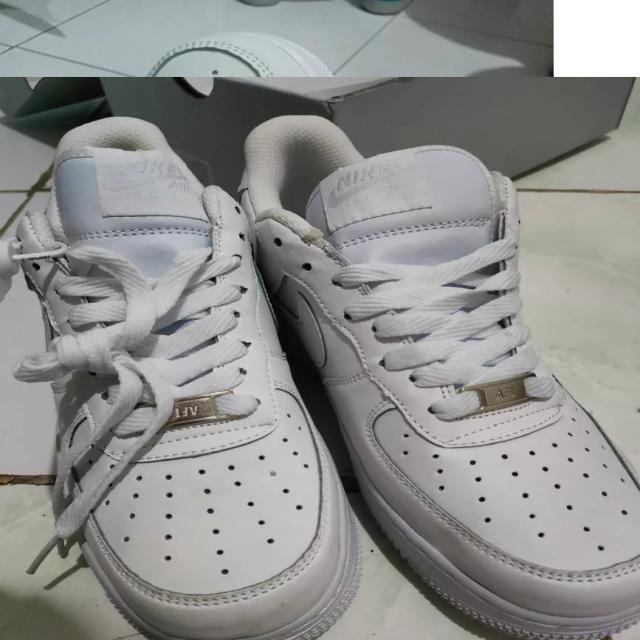nike fake air force: (234, 118, 640, 640), (0, 111, 363, 640)
